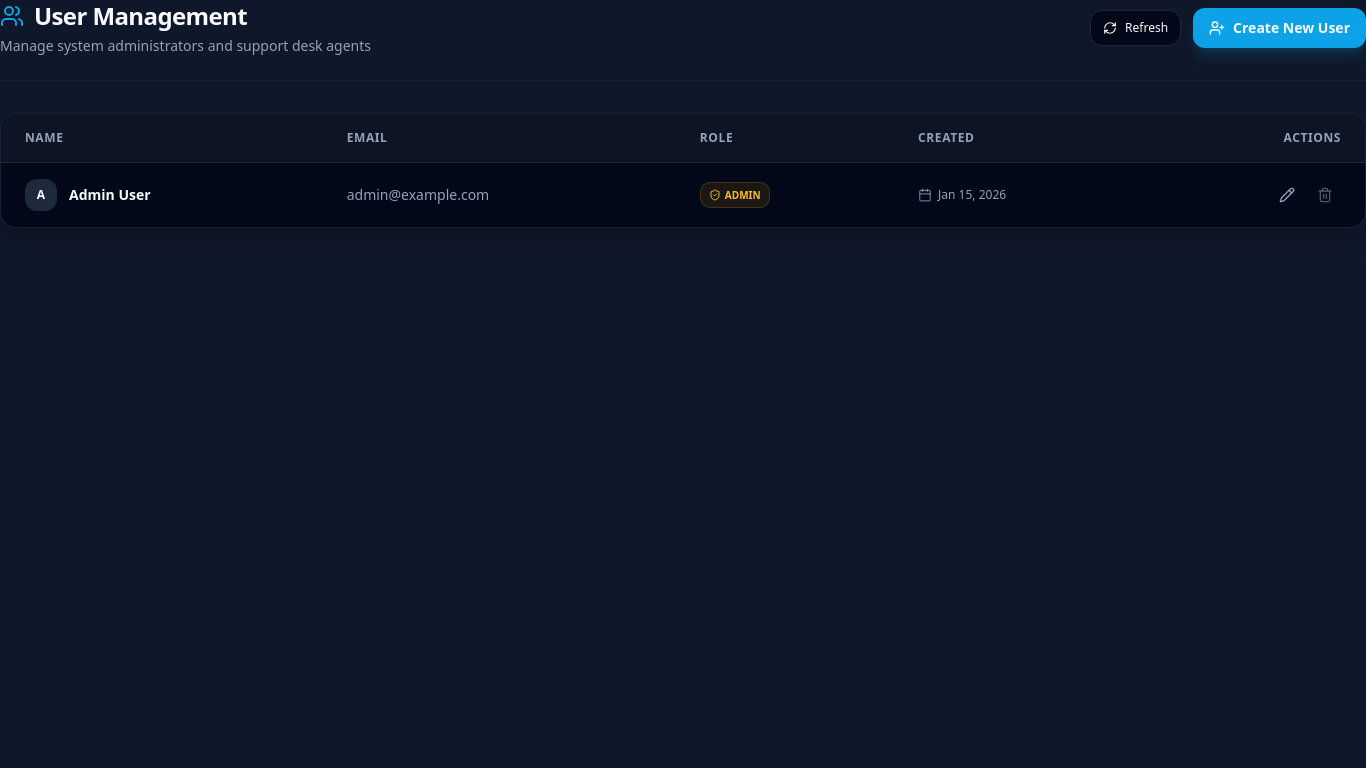
Create User Form & Modal Component Tests › 10. Shows generic error for non-Axios errors
Click the button "Create New User" at (1280, 28), box 1193,8 -> 1365,48
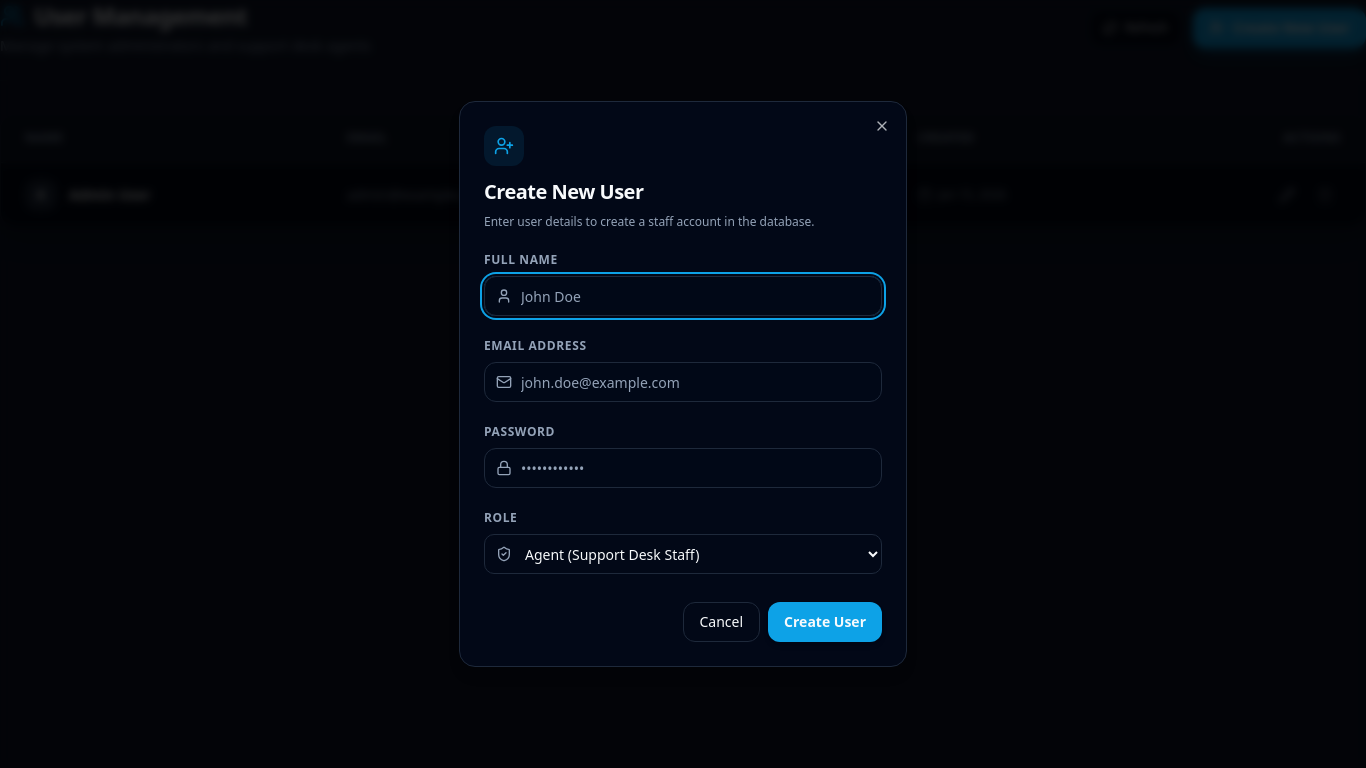
Type "Sarah Connor" into the field labelled "Full Name" at (683, 296), box 484,276 -> 882,316
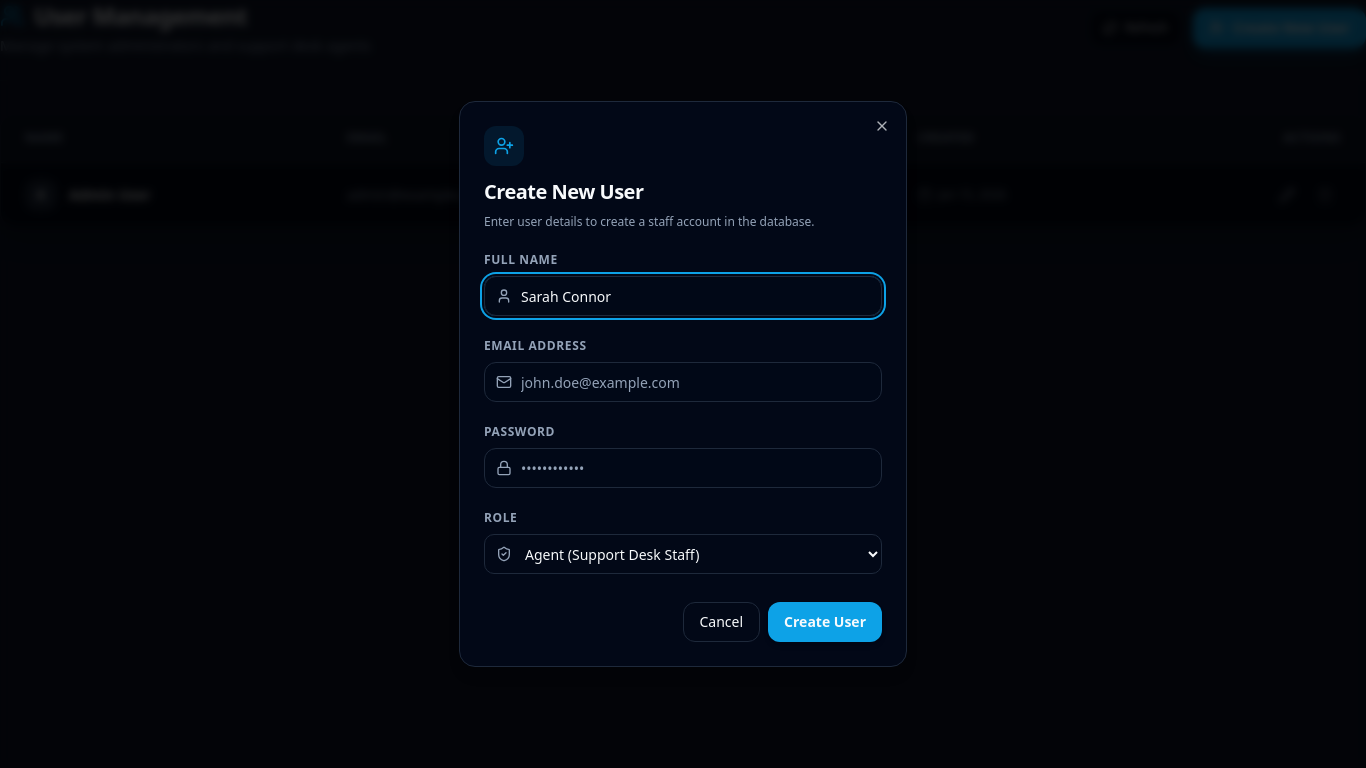
Type "sarah@example.com" into the field labelled "Email Address" at (683, 382), box 484,362 -> 882,402
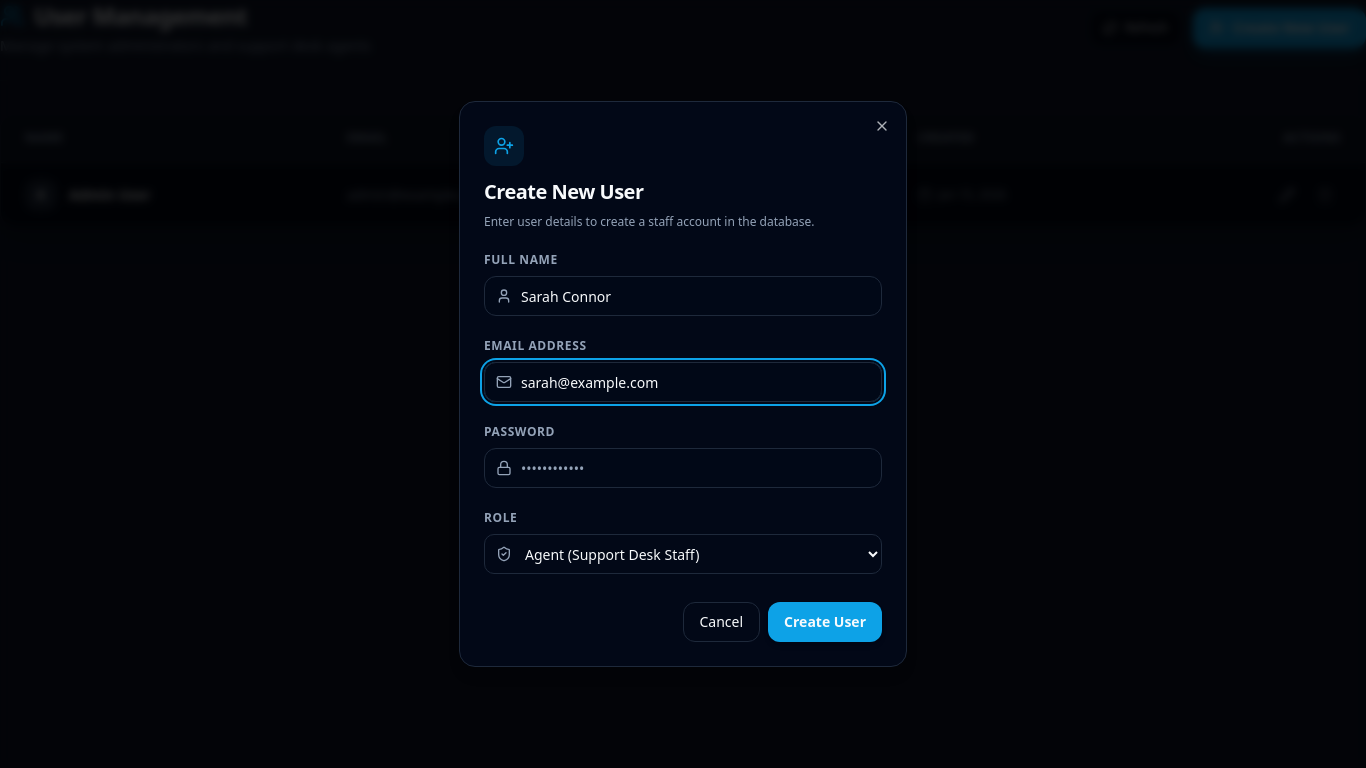
Type "SecurePass123!" into the password field labelled "Password" at (683, 468), box 484,448 -> 882,488
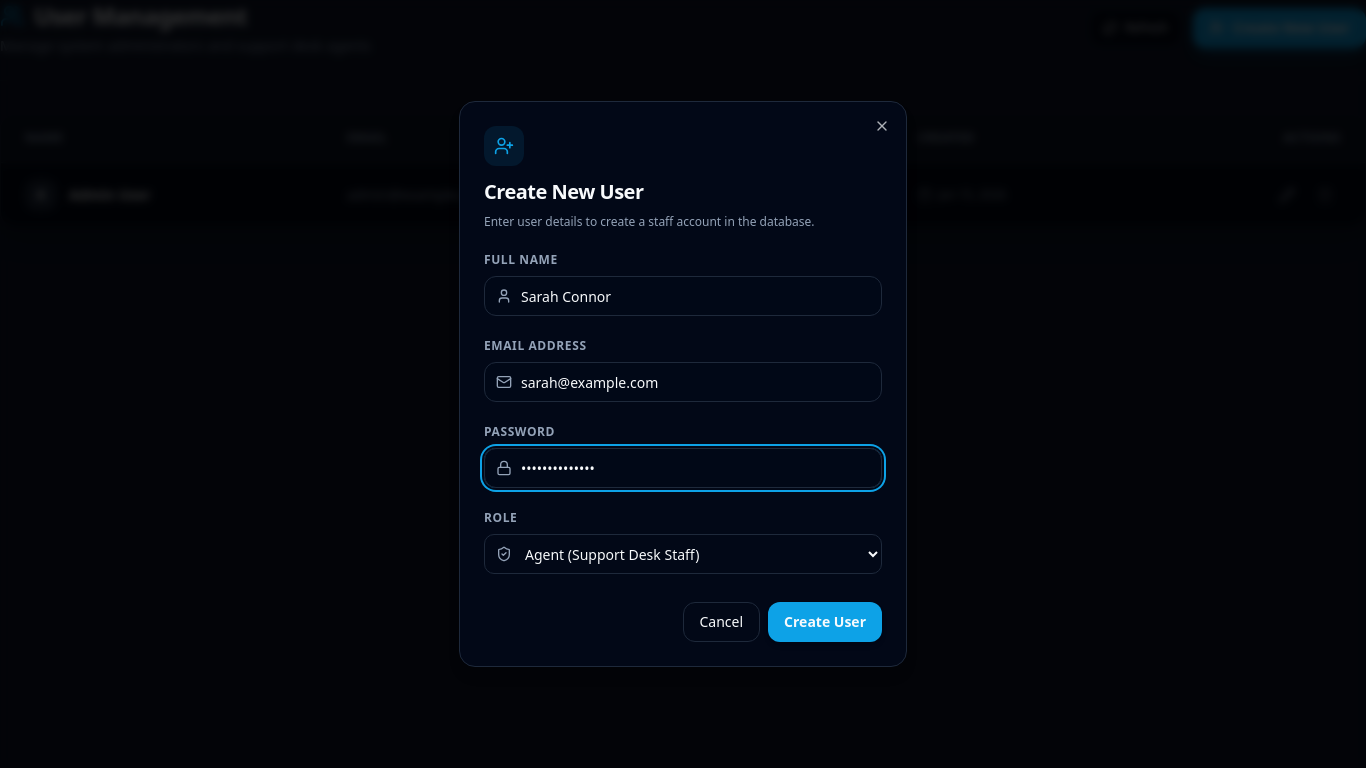
Click the button "Create User" at (825, 622), box 768,602 -> 882,642
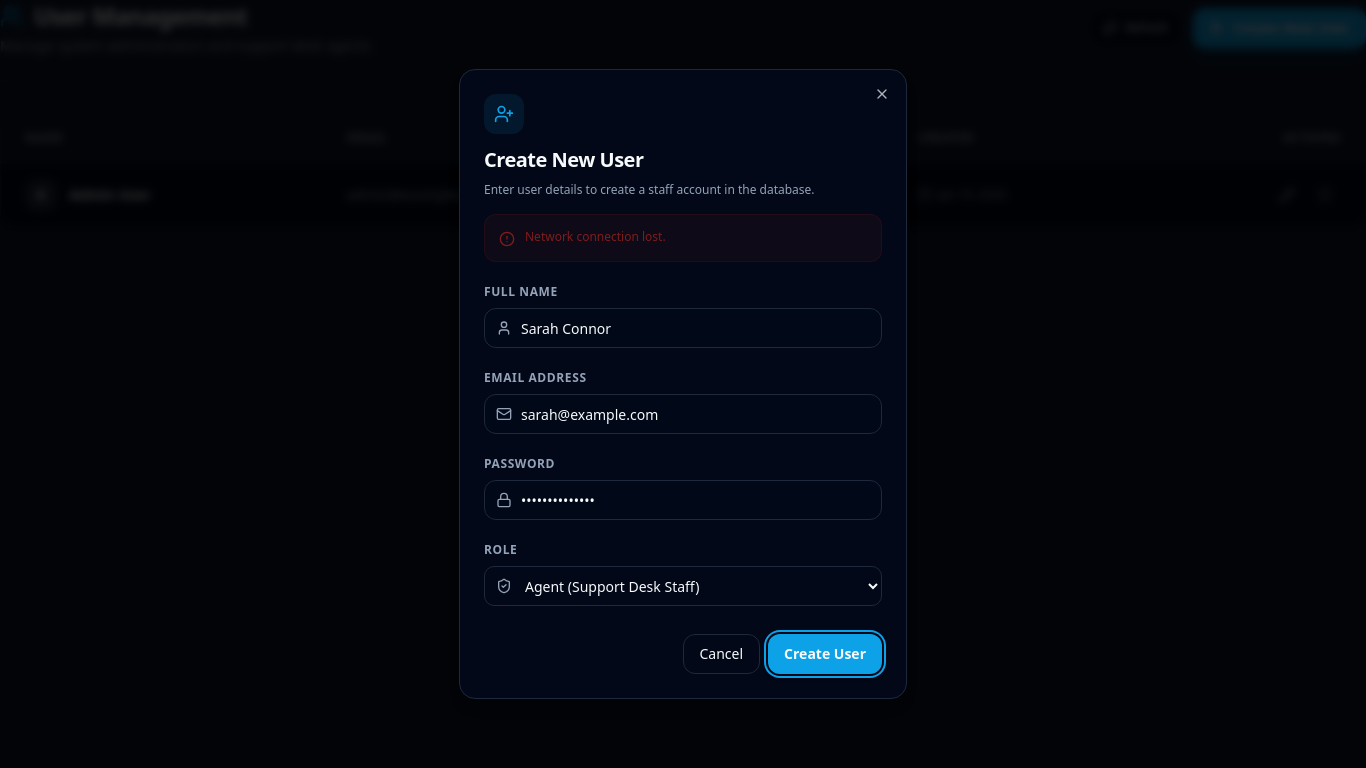
Expected: the dialog is shown, 459,69 -> 907,699
Expected: the text "Network connection lost." is shown, 525,229 -> 666,245
